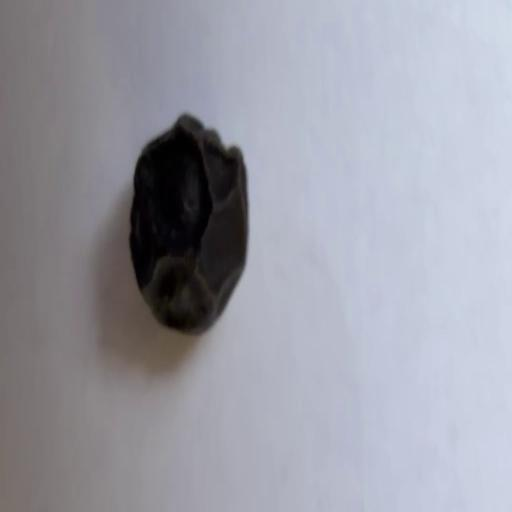Black_pepper: (128, 113, 255, 343)
